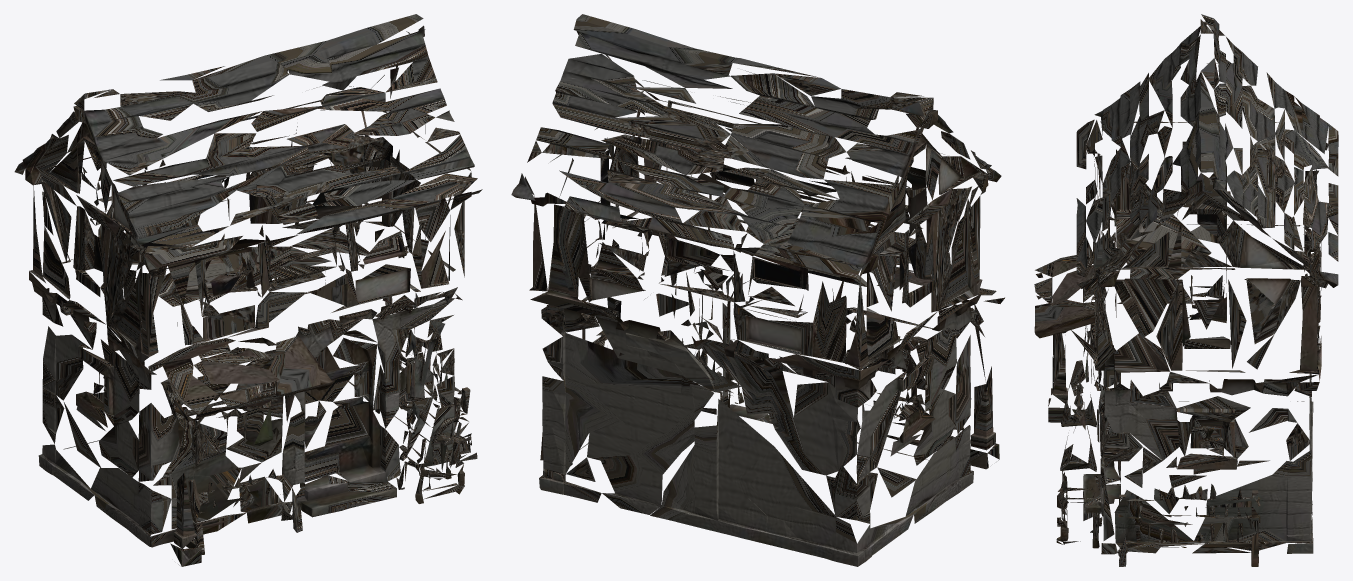
File: bld_ws_weaver_a_LOD1.glb
The picture shows the model from 3 angles, left to right: view 1: azimuth 30°, elevation 25°; view 2: azimuth 150°, elevation 25°; view 3: azimuth 270°, elevation 25°; orthographic projection. The views are drawn at different scales.
Parts seen in each view (by area): view 1: geometry_0; view 2: geometry_0; view 3: geometry_0.
Boxes of the visible parts, <box> form: geometry_0: <box>14,14,482,566</box>; geometry_0: <box>511,14,1004,566</box>; geometry_0: <box>1034,14,1338,566</box>.
Bounding box in the file's own units: 5.39 × 6 × 4.22.
Materials: 1 (1 with a texture image).
